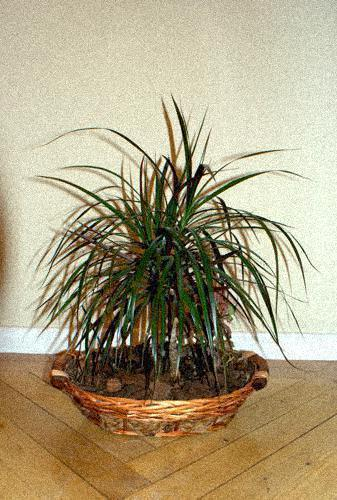Matera: (23, 93, 315, 442)
